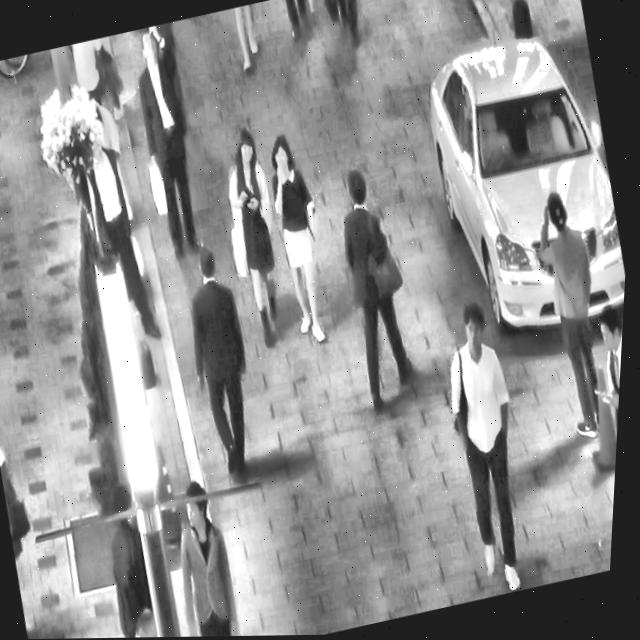light_vehicle: (398, 5, 640, 359)
